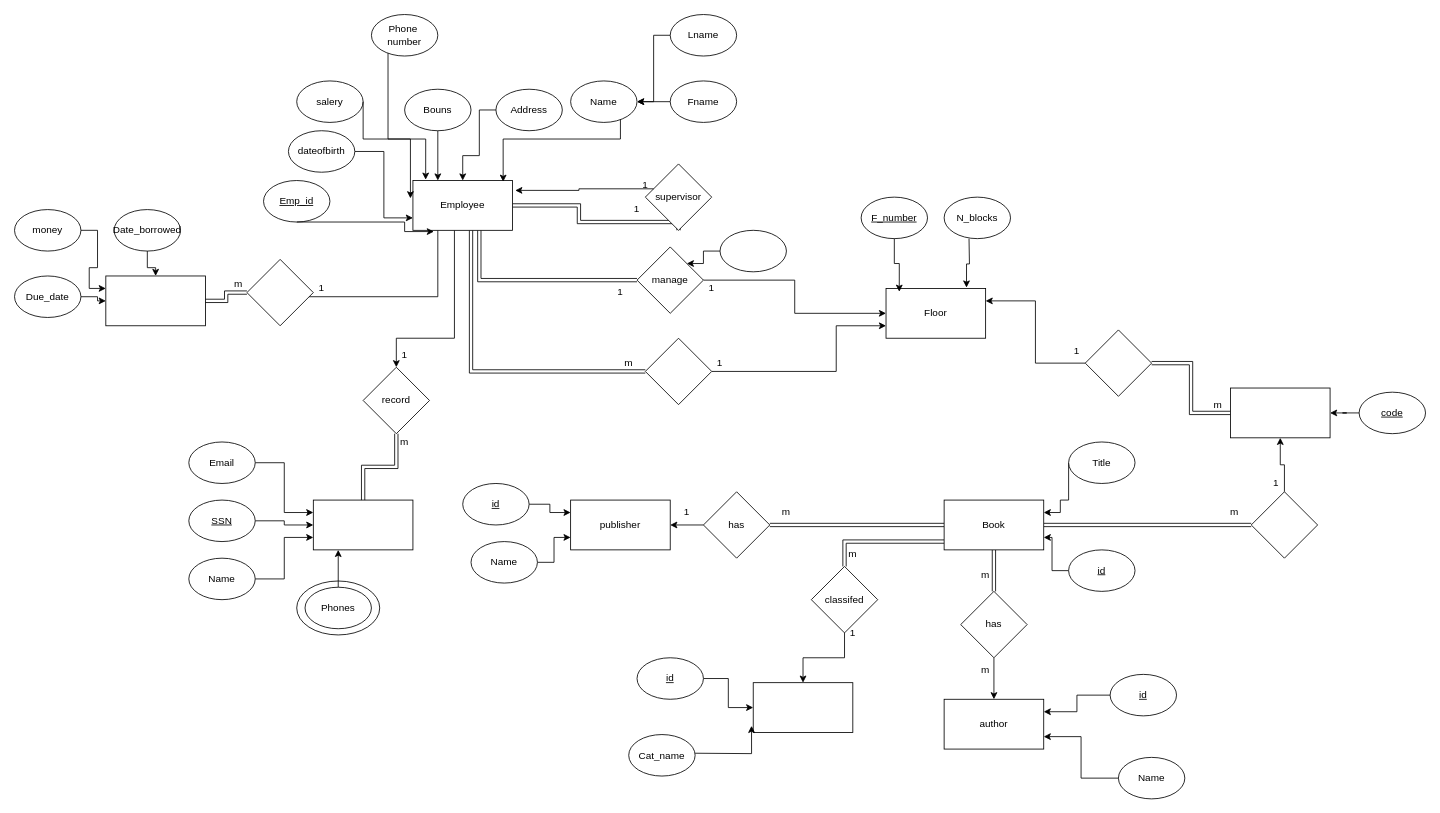
The diagram is 1440 pixels wide and 813 high, and some of its shapes have lost their labels. Here are the shapes that lost their labels. From the top down, the centre of each, then its label:
At point (752, 250): "Hiring date".
At point (155, 300): "borrowd book".
At point (279, 292): "recorrd".
At point (678, 371): "work".
At point (1118, 362): "located".
At point (1280, 412): "shelf".
At point (362, 524): "User".
At point (1284, 524): "assigned".
At point (802, 707): "Category".
